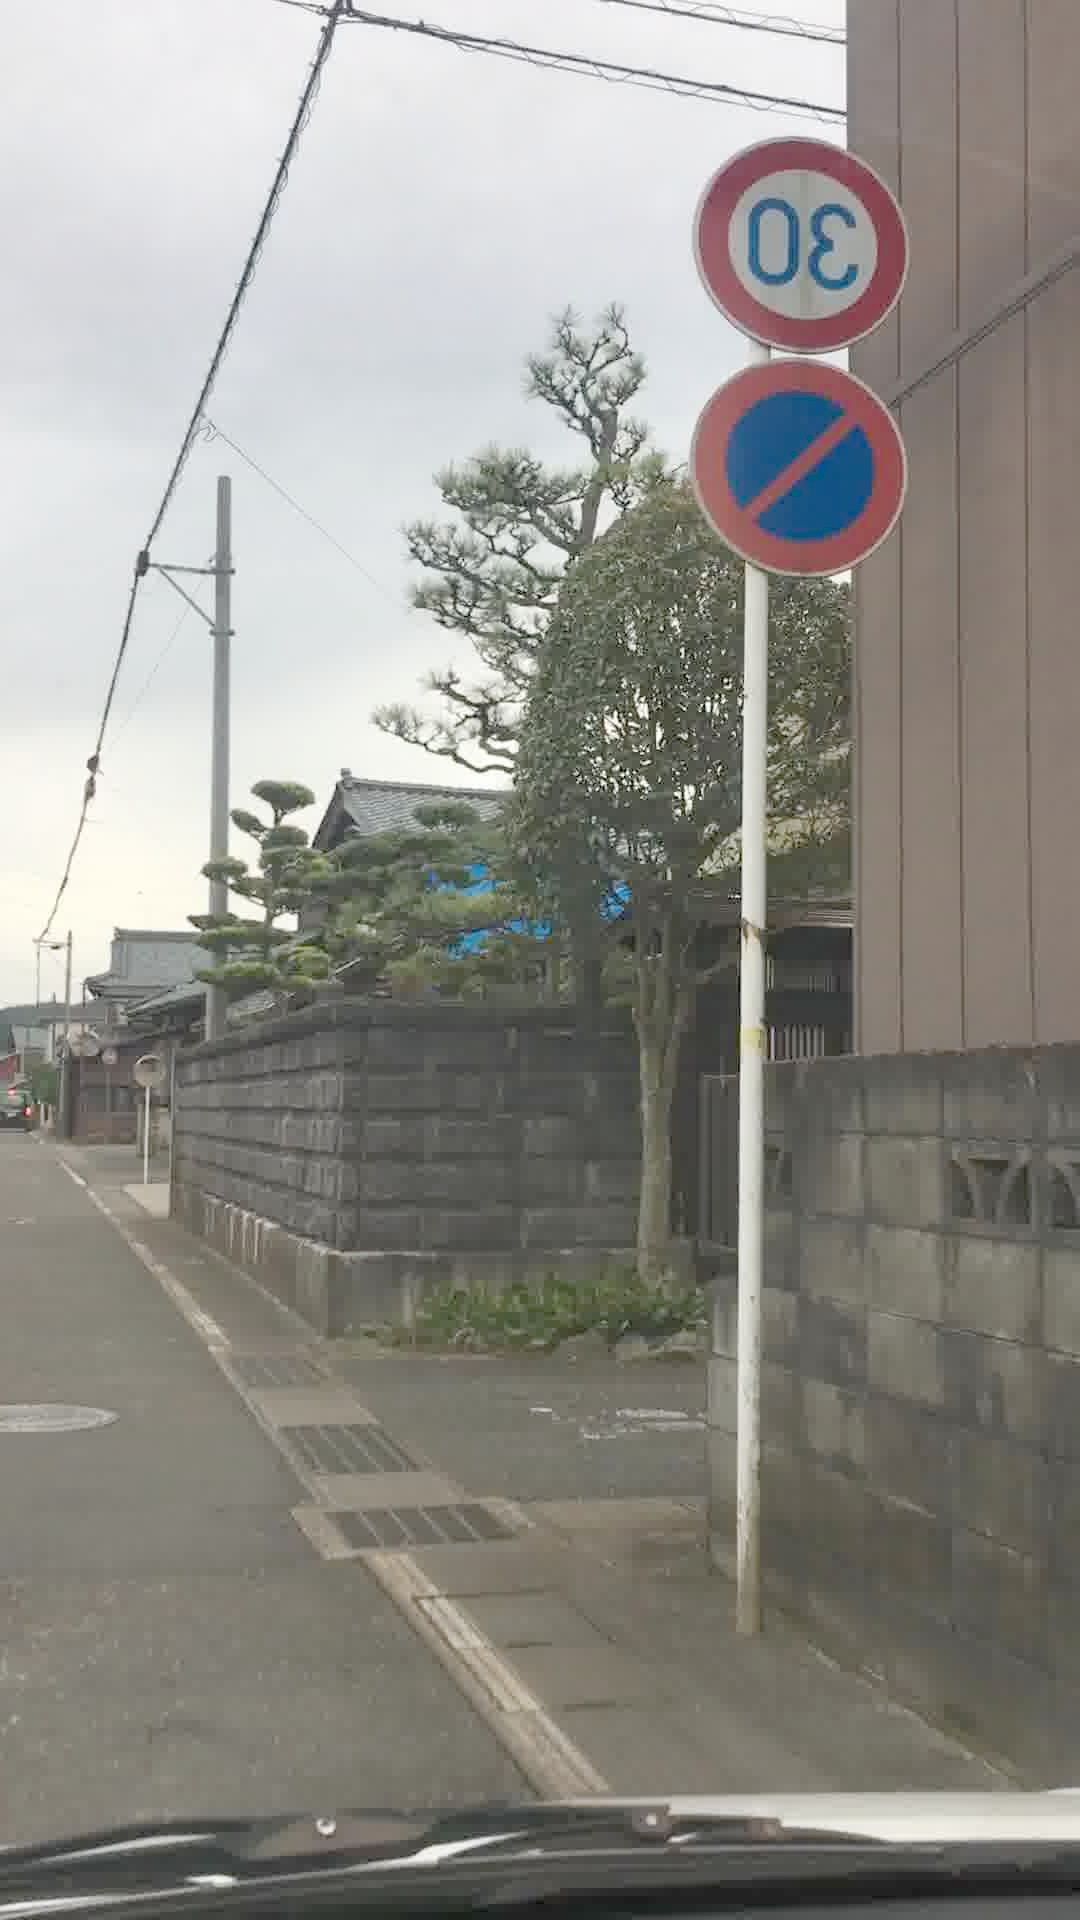Prohibition_sign: (658, 372, 944, 607)
Speed_sign: (688, 131, 920, 382)
